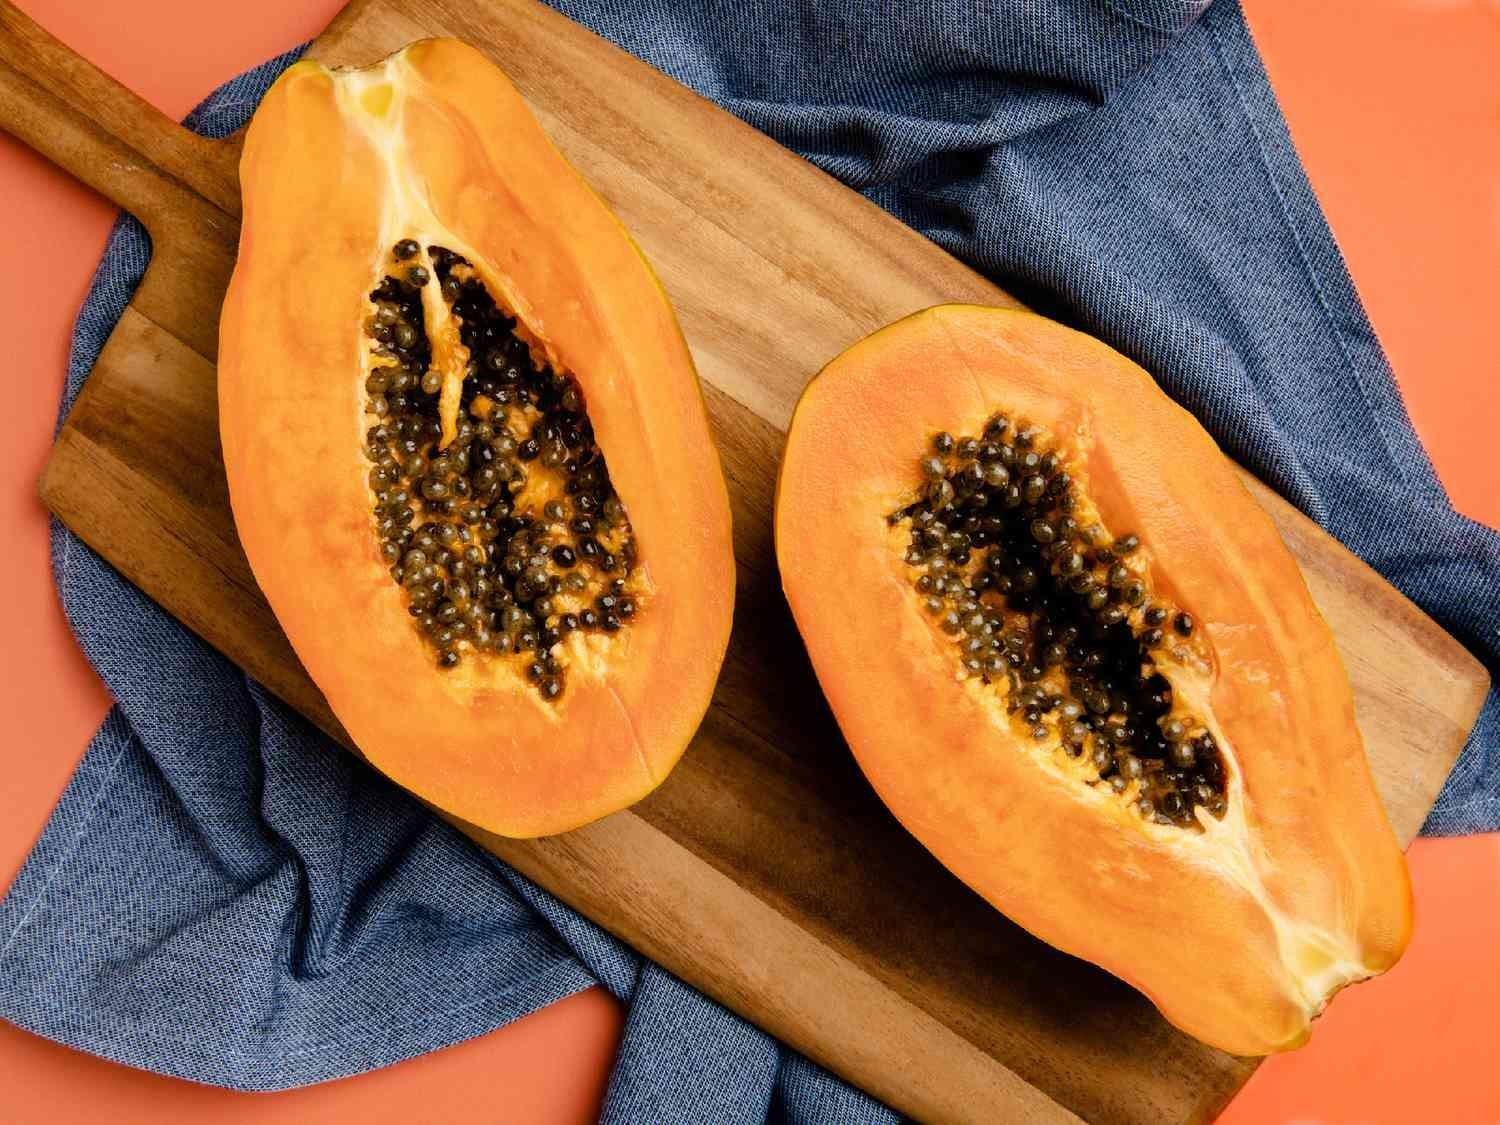papaya: (770, 297, 1435, 1066), (208, 17, 750, 871)
